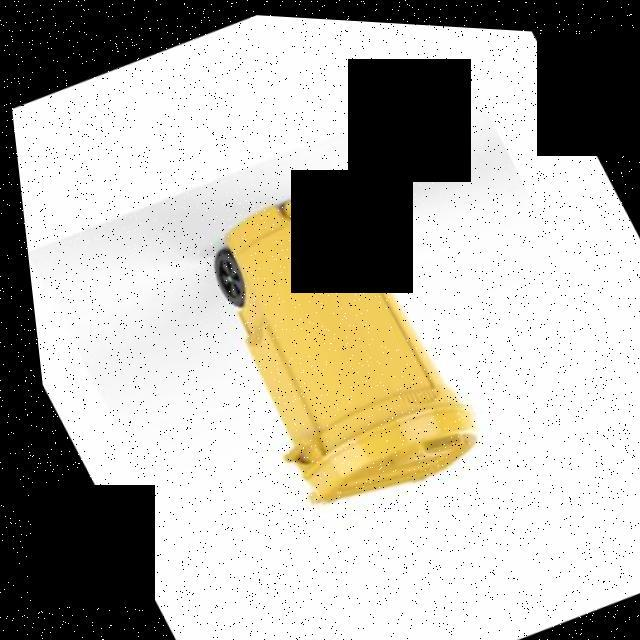bin: (138, 139, 506, 551)
